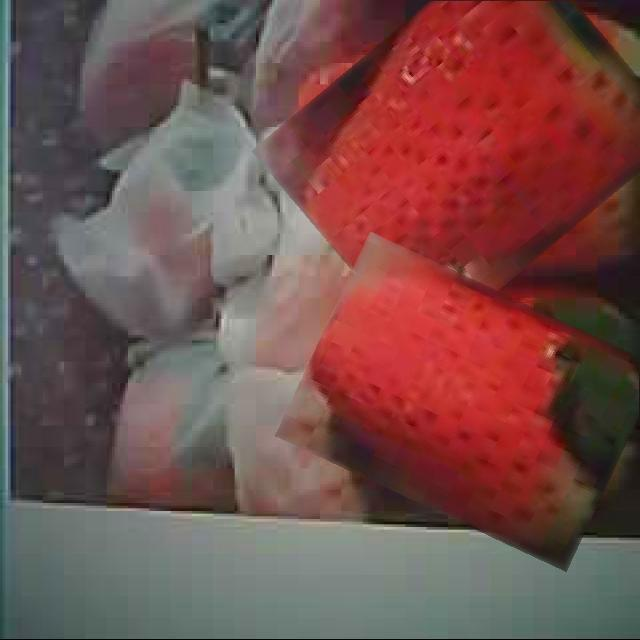strawberry: (273, 0, 640, 314), (291, 260, 640, 543)
